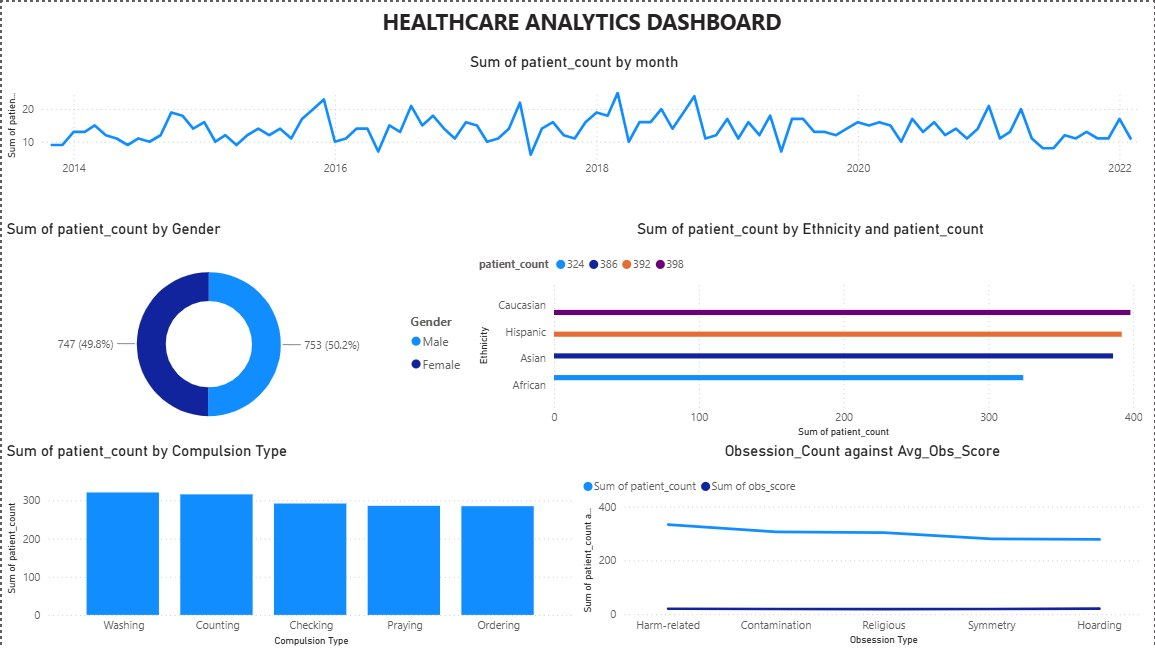

This screenshot's page, from the dashboard's own definition file:
{"tool":"powerbi","page":{"name":"Page 1","canvas":[1280,720],"ordinal":0},"visuals":[{"type":"textbox","box":[8.3,0,1271.7,56.7],"z":0},{"type":"lineChart","fields":{"Y":["Sum(diagnosis mom.patient_count)"],"Category":["diagnosis mom.month"]},"box":[0,56.7,1271.7,146.7],"z":1000},{"type":"donutChart","fields":{"Category":["gender.Gender"],"Y":["Sum(gender.patient_count)"]},"box":[0,241.7,525,246.7],"z":2000},{"type":"clusteredBarChart","fields":{"Category":["ethnicity.Ethnicity"],"Y":["Sum(ethnicity.patient_count)"],"Series":["ethnicity.patient_count"]},"box":[525,241.7,746.7,246.7],"z":3000},{"type":"columnChart","fields":{"Category":["comp_type.Compulsion Type"],"Y":["Sum(comp_type.patient_count)"]},"box":[0,488.3,640,231.7],"z":3001},{"type":"lineChart","title":"Obsession_Count against Avg_Obs_Score","fields":{"Category":["obs_type.Obsession Type"],"Y":["Sum(obs_type.patient_count)","Sum(obs_type.obs_score)"]},"box":[640,489,632,231],"z":3002}]}

Visuals, with their boxes in screenshot pixels (x1, y1, x2, y2), scaled from the page's 1280x720 canvas onto the 1155x648 screenshot:
textbox: 7:0:1154:51
lineChart - Sum(diagnosis mom.patient_count) x diagnosis mom.month: 0:51:1148:183
donutChart - gender.Gender x Sum(gender.patient_count): 0:218:474:440
clusteredBarChart - ethnicity.Ethnicity x Sum(ethnicity.patient_count): 474:218:1148:440
columnChart - comp_type.Compulsion Type x Sum(comp_type.patient_count): 0:439:578:647
"Obsession_Count against Avg_Obs_Score" lineChart: 578:440:1148:647
